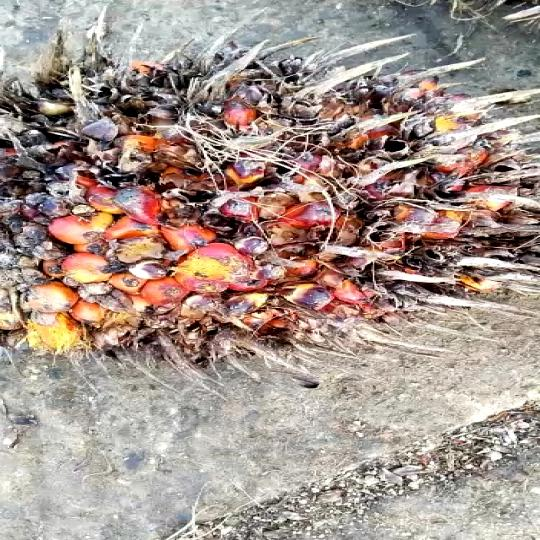terlalu masak: (0, 31, 540, 394)
